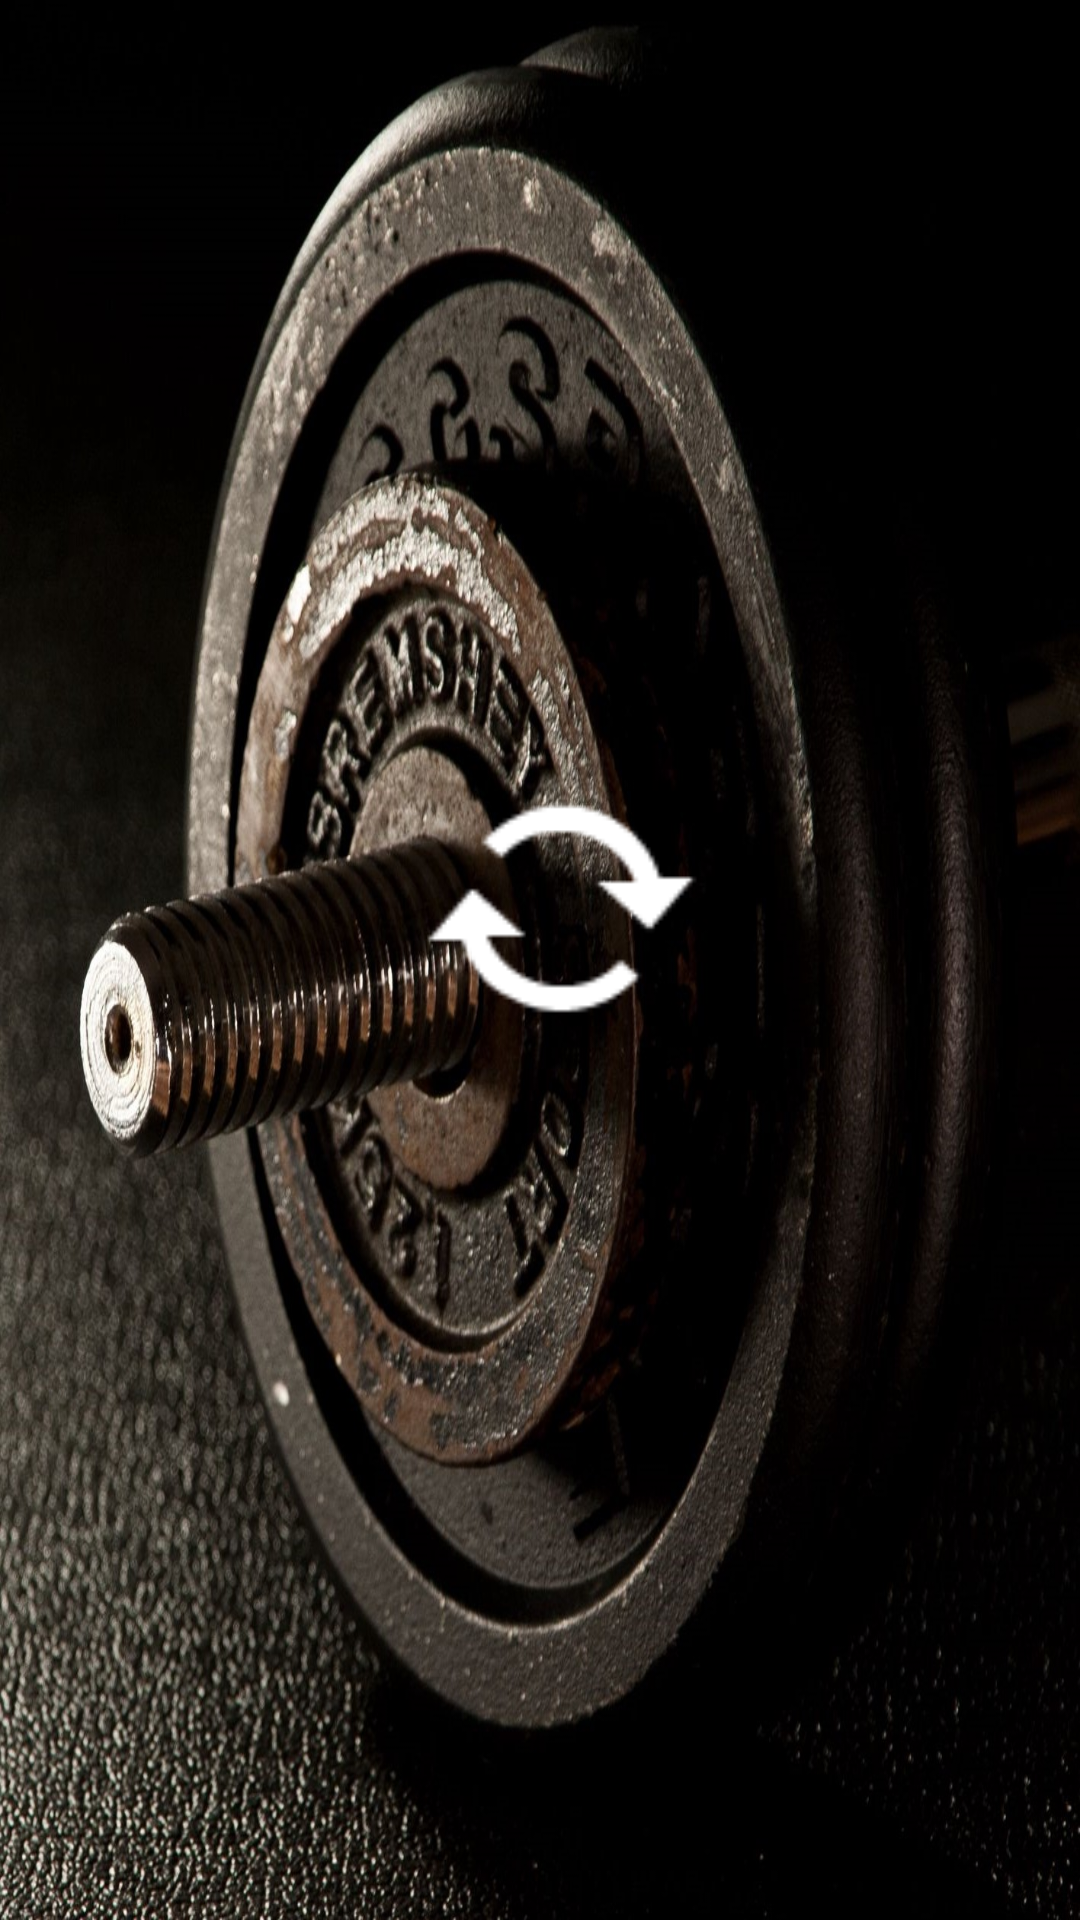

Where to tap for icons on this 1080 × 1920 app screen, as [x,y]:
sync: [554,911]
